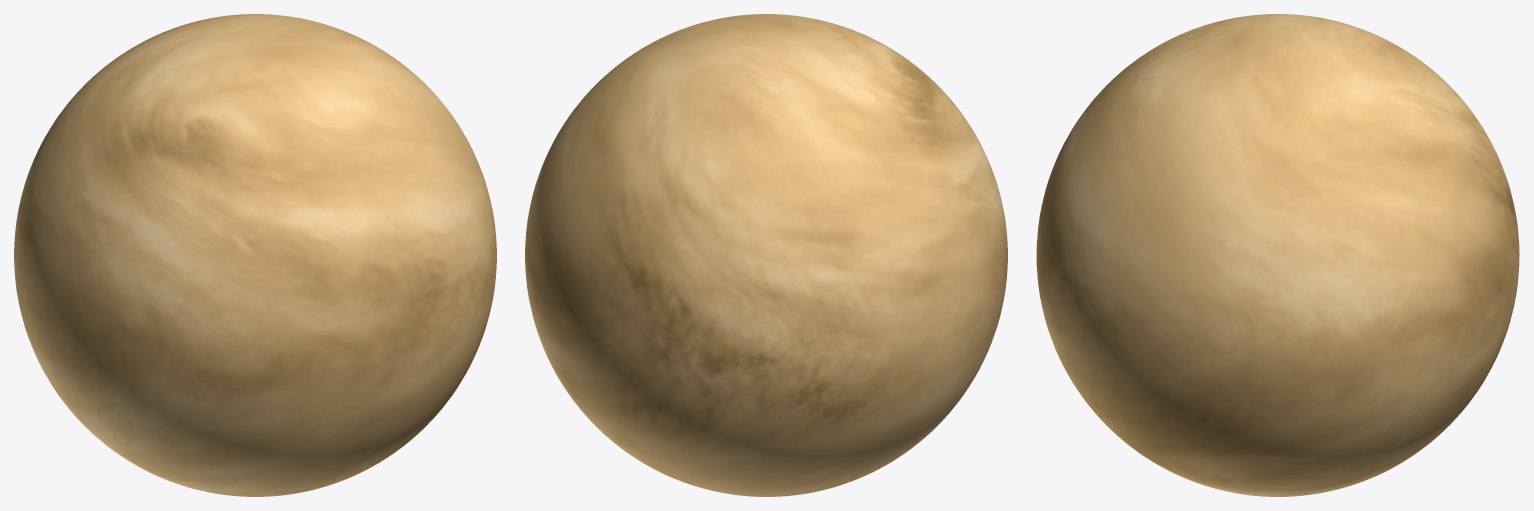
File: Venus.glb
The picture shows the model from 3 angles, left to right: view 1: azimuth 30°, elevation 25°; view 2: azimuth 150°, elevation 25°; view 3: azimuth 270°, elevation 25°; orthographic projection.
Visible parts, largest first — view 1: Venus; view 2: Venus; view 3: Venus.
Boxes of the visible parts, left/top/right/bottom form: Venus: left=14, top=14, right=496, bottom=496; Venus: left=525, top=14, right=1007, bottom=496; Venus: left=1036, top=14, right=1519, bottom=496.
Bounding box in the file's own units: 2 × 2 × 2.
Materials: 1 (1 with a texture image).
